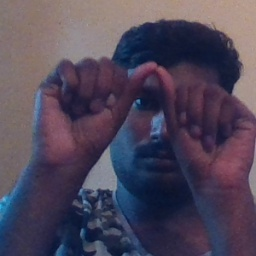A: (75, 52, 224, 164)
